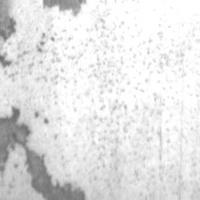patches: (113, 143, 176, 200), (170, 102, 200, 165), (179, 1, 200, 43), (107, 1, 158, 17)
pitted_surface: (3, 17, 168, 164)
